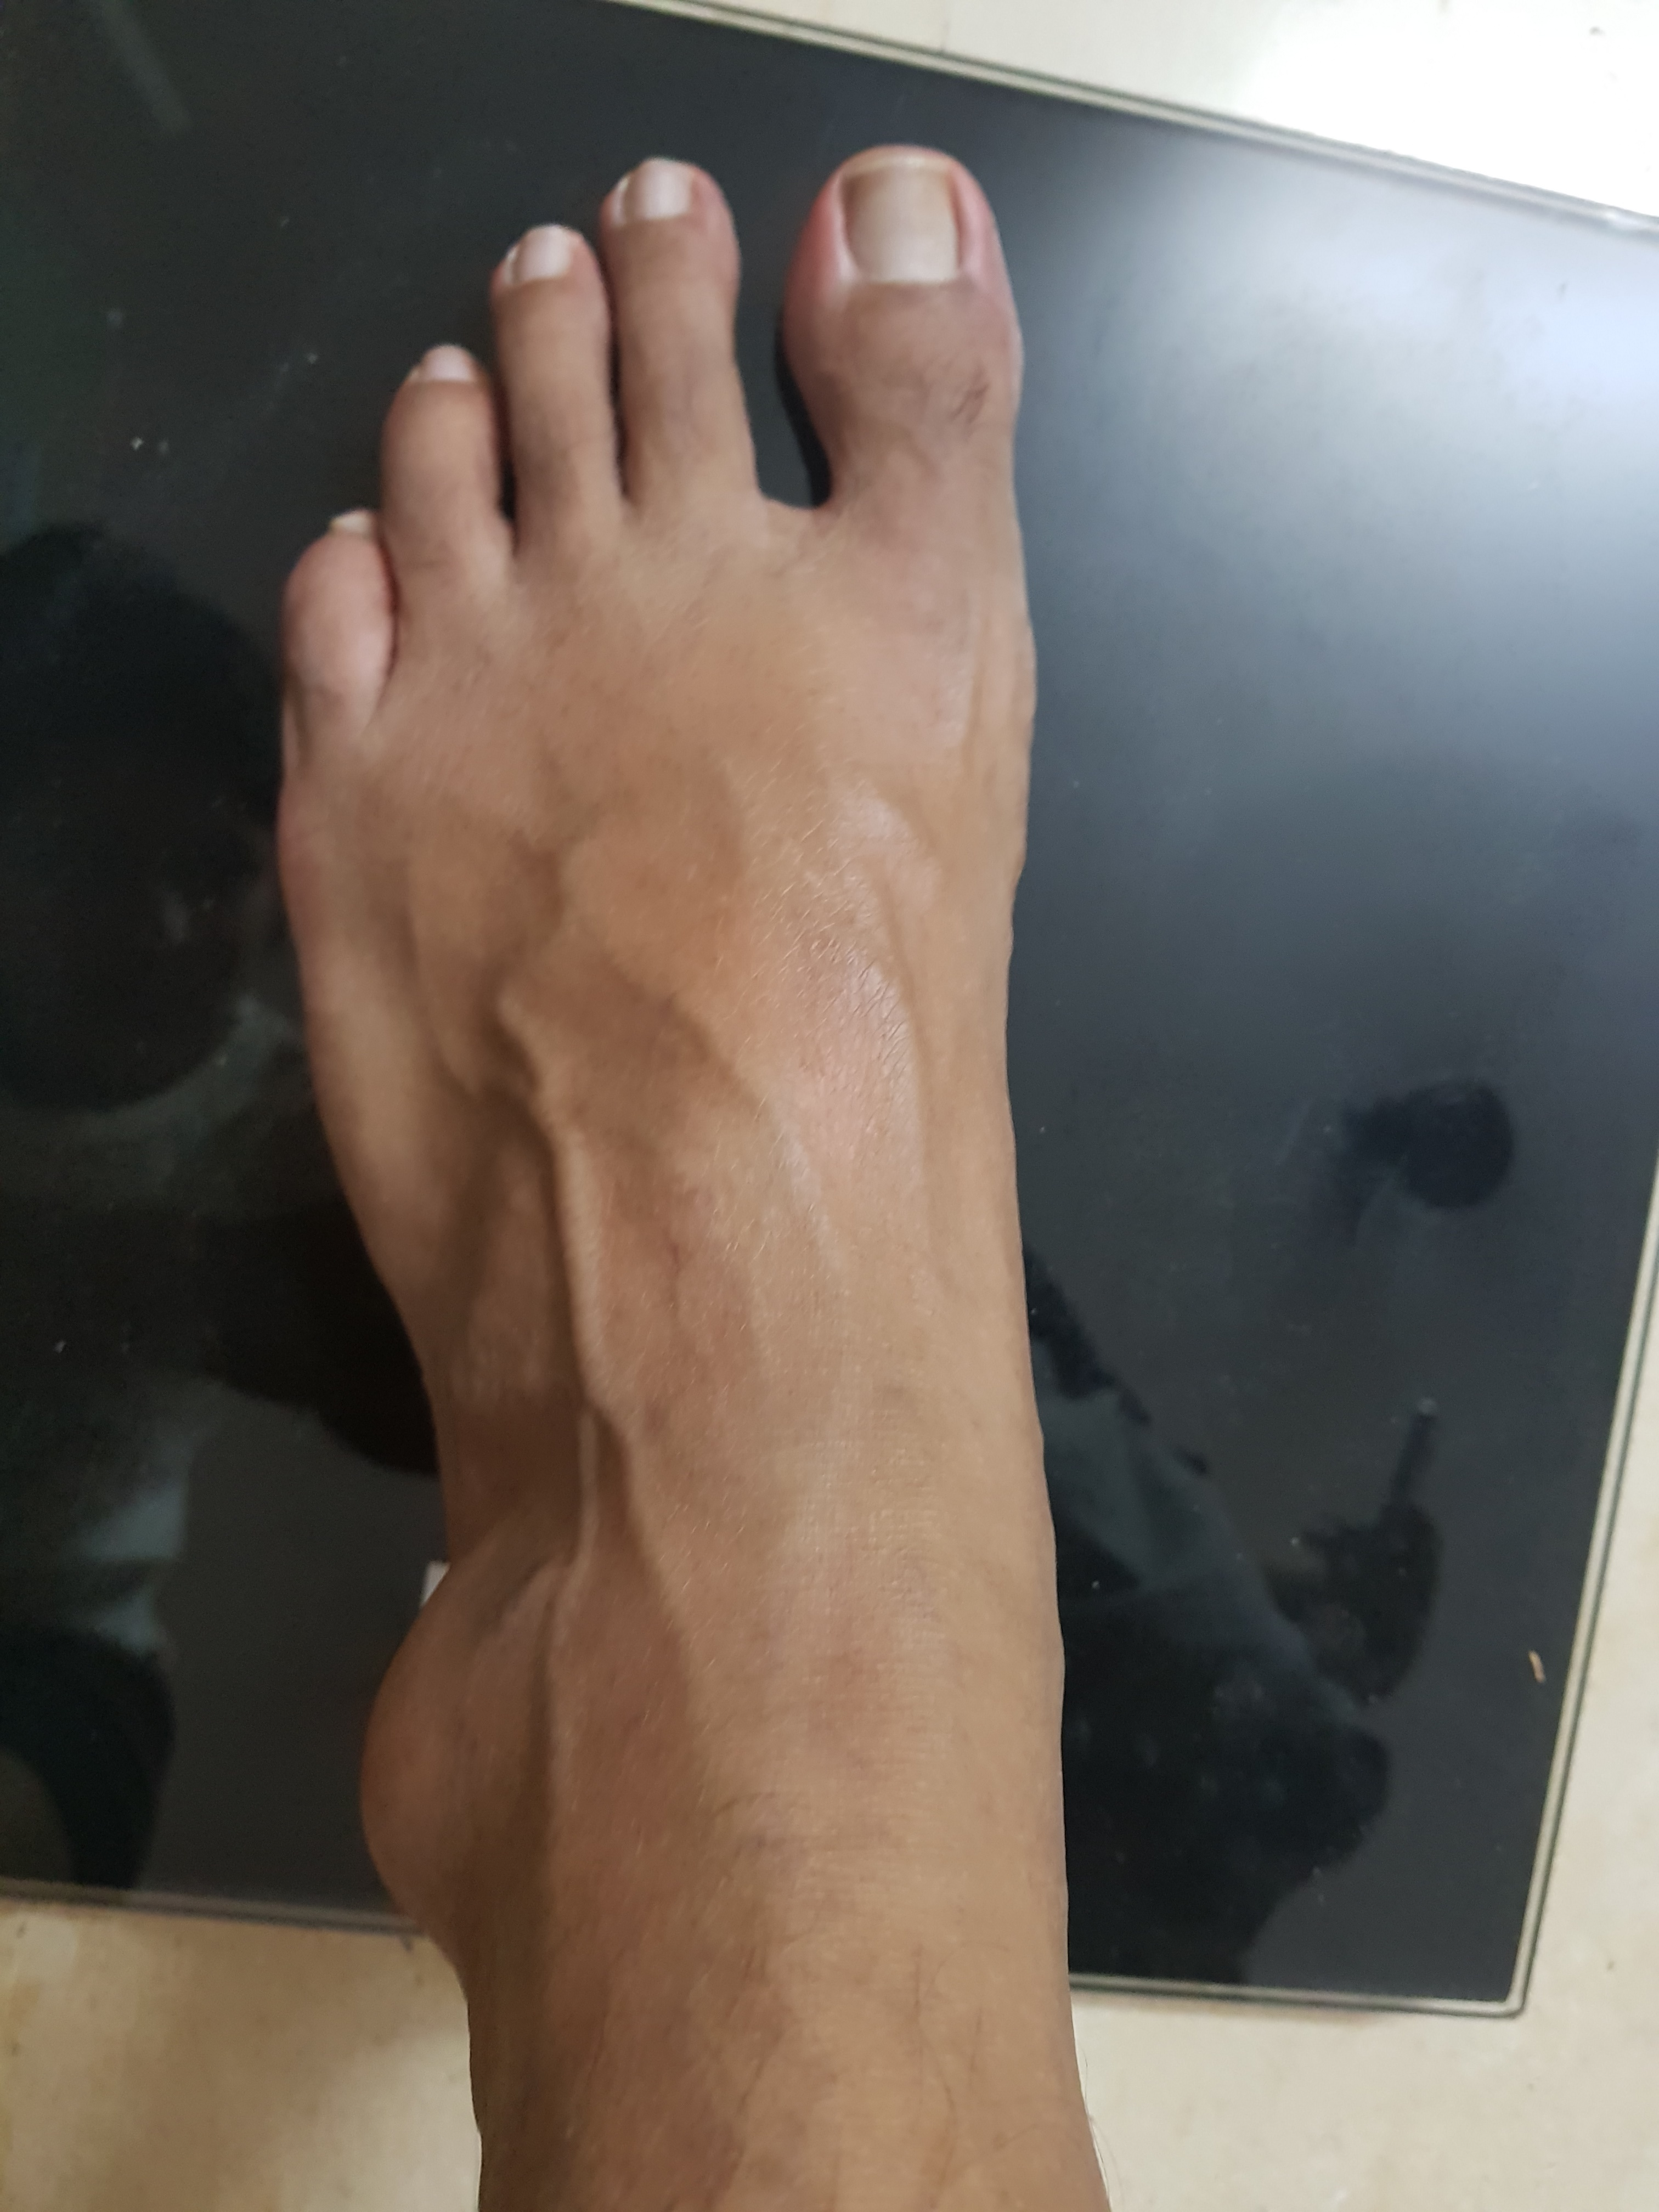feet: (153, 92, 1127, 1989)
